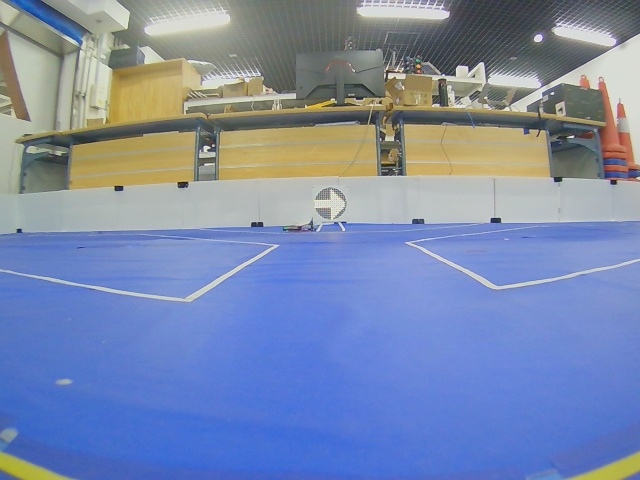right_yellow: (314, 187, 347, 221)
